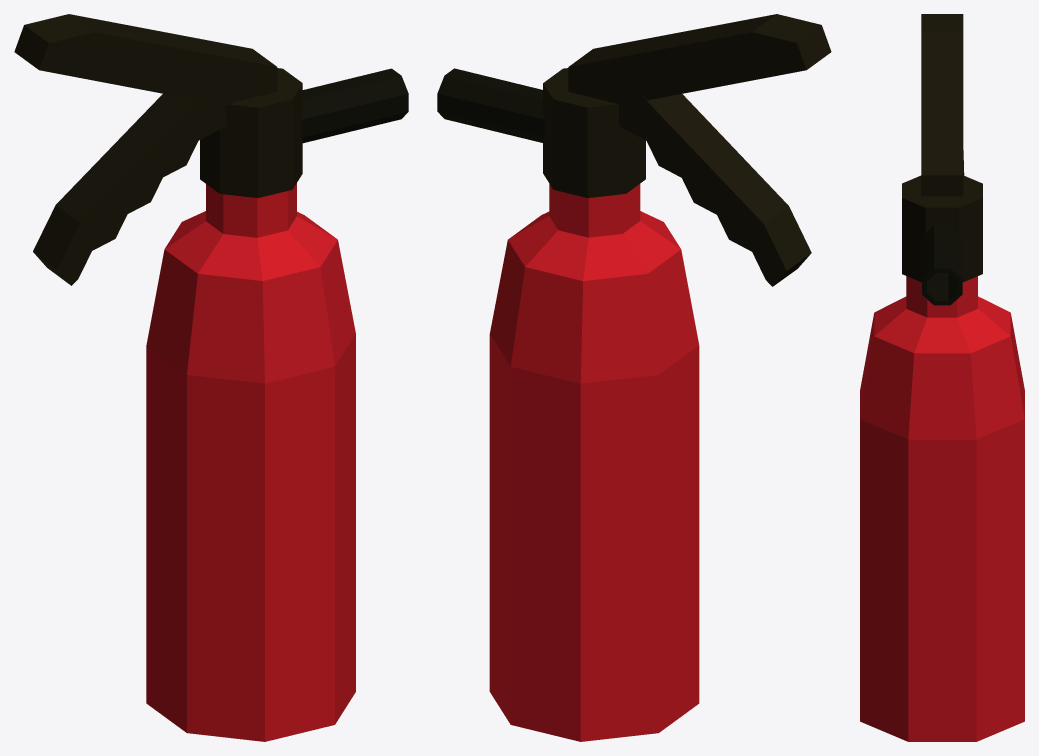
Rendered from FireExtinguisherHandle.fbx.
3 views of the same model, side by side, from view 1: azimuth 30°, elevation 25°; view 2: azimuth 150°, elevation 25°; view 3: azimuth 270°, elevation 25° (orthographic). The views are drawn at different scales.
Visible parts, largest first — view 1: Cube, Handle; view 2: Cube, Handle; view 3: Cube.
Boxes of the visible parts, <box> form: Cube: <box>14,14,408,741</box>; Handle: <box>33,93,225,285</box>; Cube: <box>437,14,831,741</box>; Handle: <box>609,81,811,286</box>; Cube: <box>860,14,1024,741</box>.
Bounding box in the file's own units: 404 × 748 × 185.
